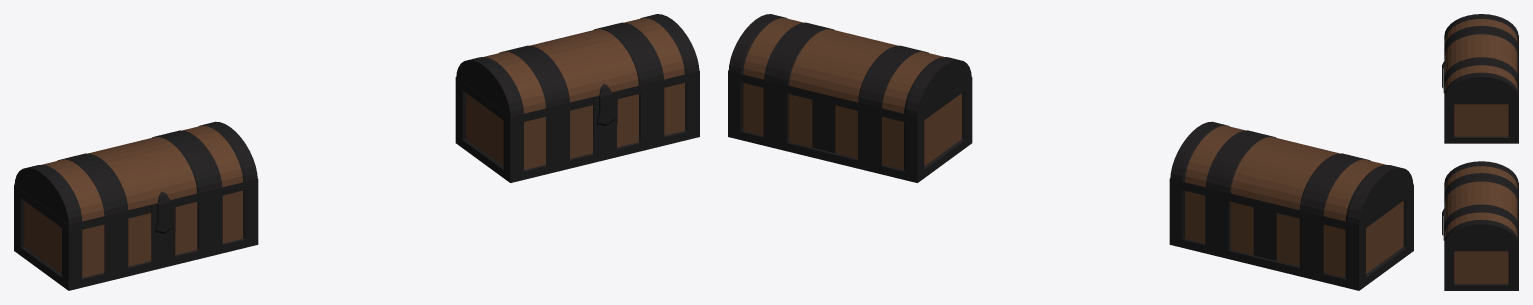
File: Chest.fbx
The picture shows the model from 3 angles, left to right: view 1: azimuth 30°, elevation 25°; view 2: azimuth 150°, elevation 25°; view 3: azimuth 270°, elevation 25°; orthographic projection. The views are drawn at different scales.
Visible parts, largest first — view 1: Base, Top, Cube.001, Top.003, Top.002, Cube.002, Handle.001; view 2: Base, Top, Cube.001, Top.003, Top.002, Cube.002; view 3: Top, Base, Top.002, Top.003, Cube.001, Cube.002.
Part boxes in pixels (x1,y1,x2,y2): Base: (455,70,699,182); Top: (456,14,699,126); Cube.001: (14,178,258,290); Top.003: (41,125,242,221); Top.002: (14,121,257,224); Cube.002: (24,190,242,277); Handle.001: (154,191,173,233); Base: (728,70,972,182); Top: (728,14,971,116); Cube.001: (1169,178,1413,290); Top.003: (1185,125,1386,221); Top.002: (1170,121,1413,224); Cube.002: (1185,190,1403,277); Top: (1442,161,1518,245); Base: (1443,183,1518,290); Top.002: (1444,14,1518,98); Top.003: (1445,19,1517,89); Cube.001: (1443,35,1518,143); Cube.002: (1454,104,1508,136).
Bounding box in the file's own units: 2060 × 304 × 318.
